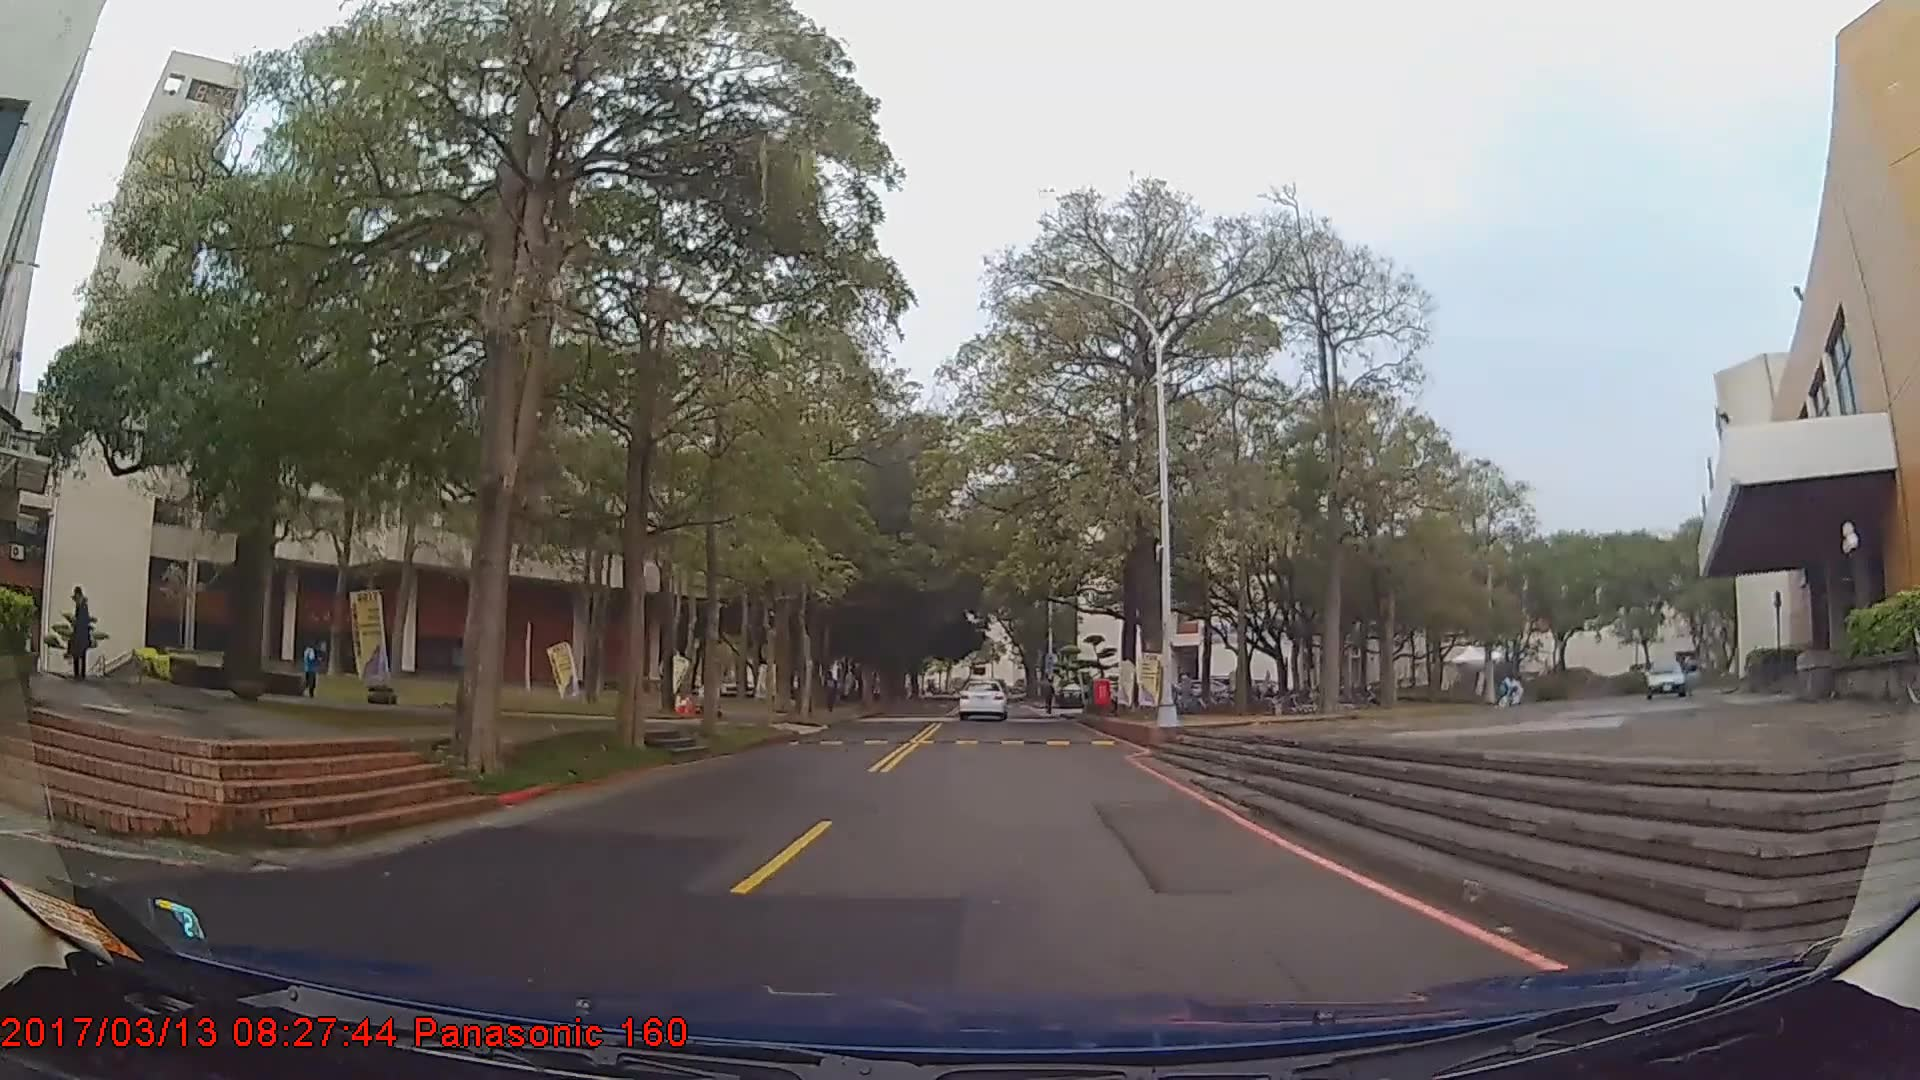pedestrian: (68, 587, 94, 679), (302, 637, 323, 698)
vehicle: (1641, 660, 1703, 704), (958, 678, 1007, 721)
